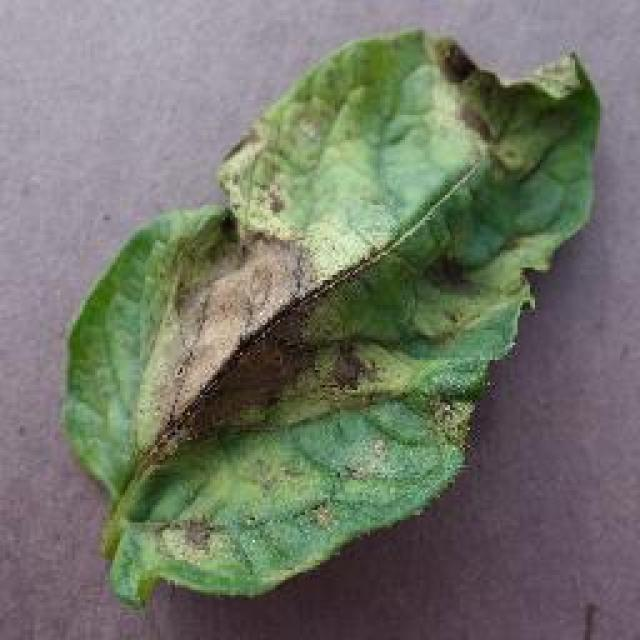late_blight: (57, 25, 605, 610)
